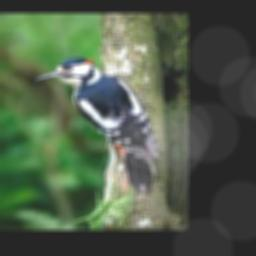Woodpecker: (35, 57, 159, 196)
